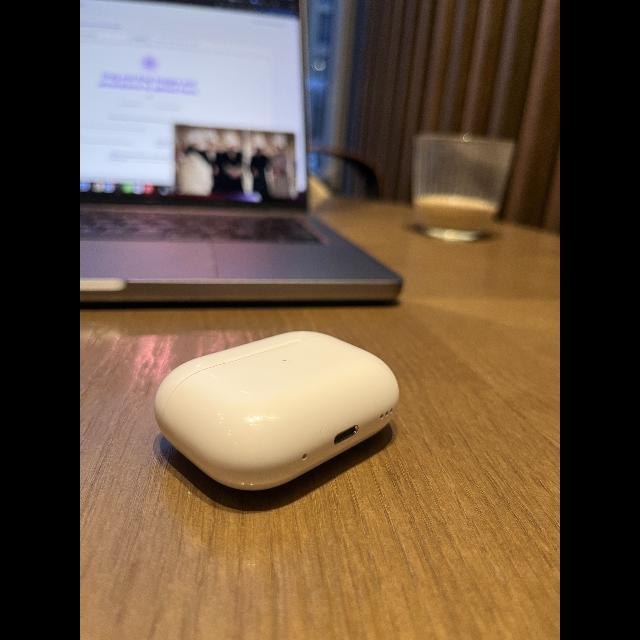AirPods Pro: (153, 329, 404, 519)
